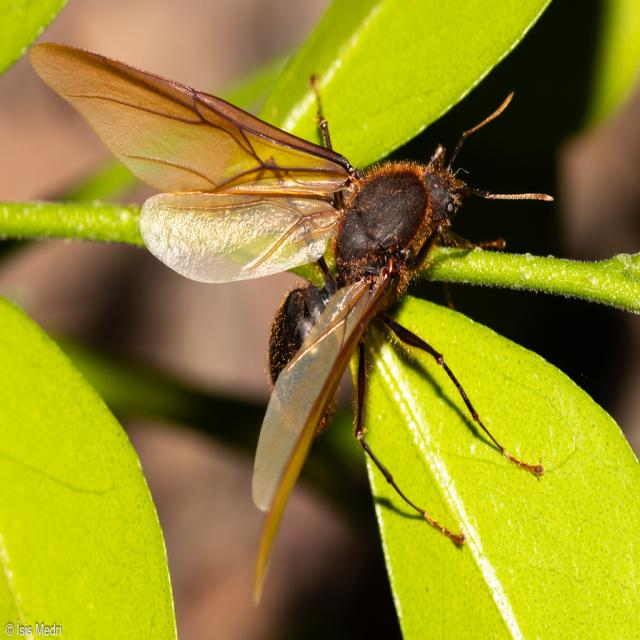Alive-Male-Alate: (28, 36, 556, 612)
